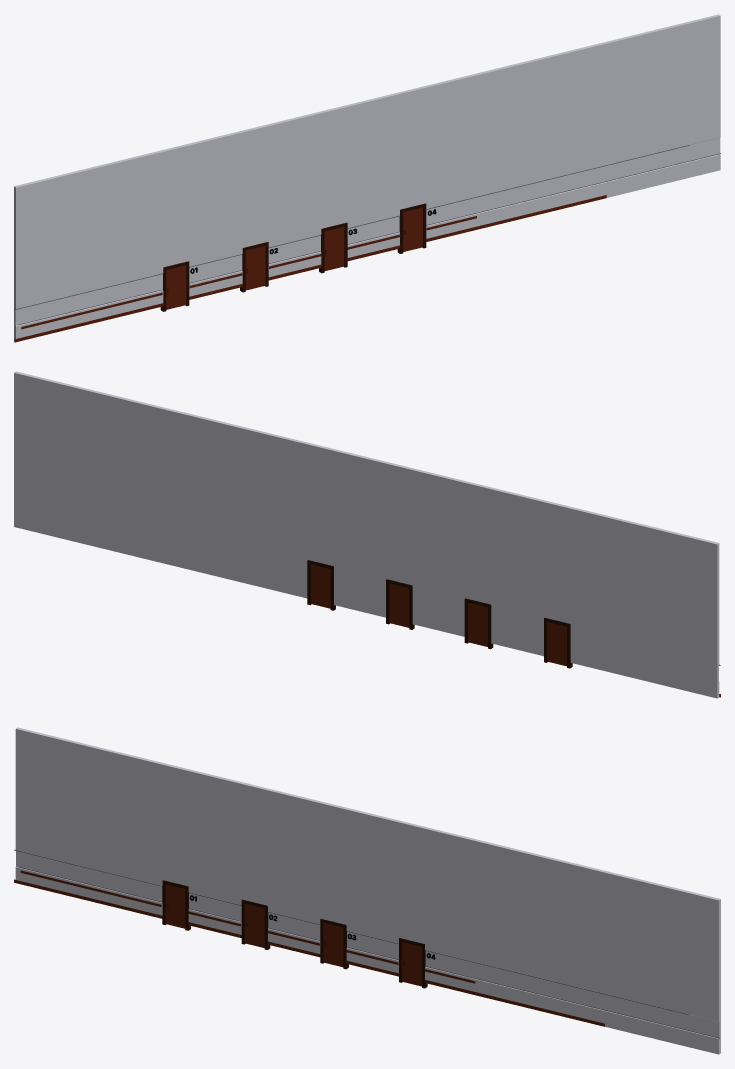
Rendered from Left Wall.obj.
3 views of the same model, one above another, from view 1: azimuth 30°, elevation 25°; view 2: azimuth 150°, elevation 25°; view 3: azimuth 330°, elevation 25° (orthographic).
Visible parts, largest first — view 1: Union17, Union13, Union9, Union5, Union1, Part13, Part35; view 2: Union17, Union5, Union1, Union9, Union13; view 3: Union17, Union13, Union5, Union1, Union9, Part13, Part35.
Part boxes in pixels (x1,y1,x2,y2): Union17: (14, 14, 720, 340); Union13: (166, 265, 186, 309); Union9: (245, 246, 265, 290); Union5: (324, 226, 344, 270); Union1: (403, 207, 422, 251); Part13: (426, 195, 606, 241); Part35: (14, 303, 163, 342); Union17: (14, 371, 719, 698); Union5: (389, 583, 409, 627); Union1: (311, 564, 330, 608); Union9: (468, 602, 487, 646); Union13: (547, 622, 566, 666); Union17: (15, 727, 720, 1054); Union13: (165, 884, 185, 928); Union5: (323, 923, 343, 967); Union1: (402, 942, 421, 986); Union9: (245, 903, 264, 947); Part13: (425, 980, 604, 1026); Part35: (14, 879, 162, 918).
Size of the model in its own units: 162 by 35 by 1.09.
